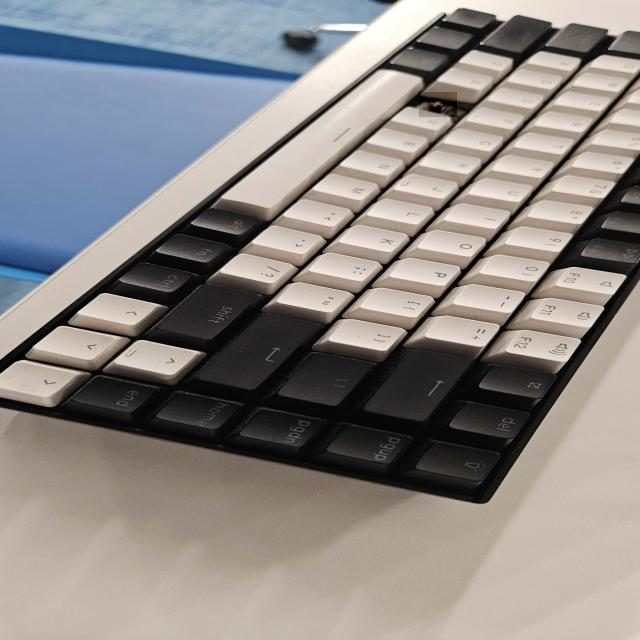C: (420, 92, 458, 117)
